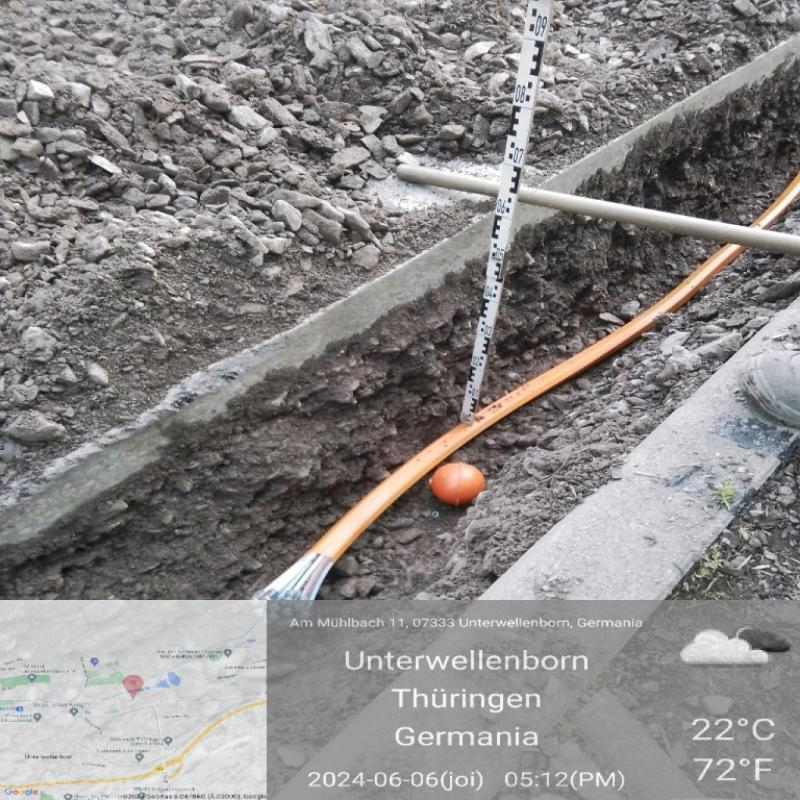Kugelmarker: (431, 463, 484, 503)
Orang-Speednetrohrchen: (257, 245, 743, 600)
